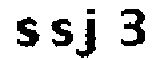3: (116, 6, 146, 52)
j: (77, 7, 101, 60)
s: (13, 17, 39, 50), (49, 17, 75, 48)
